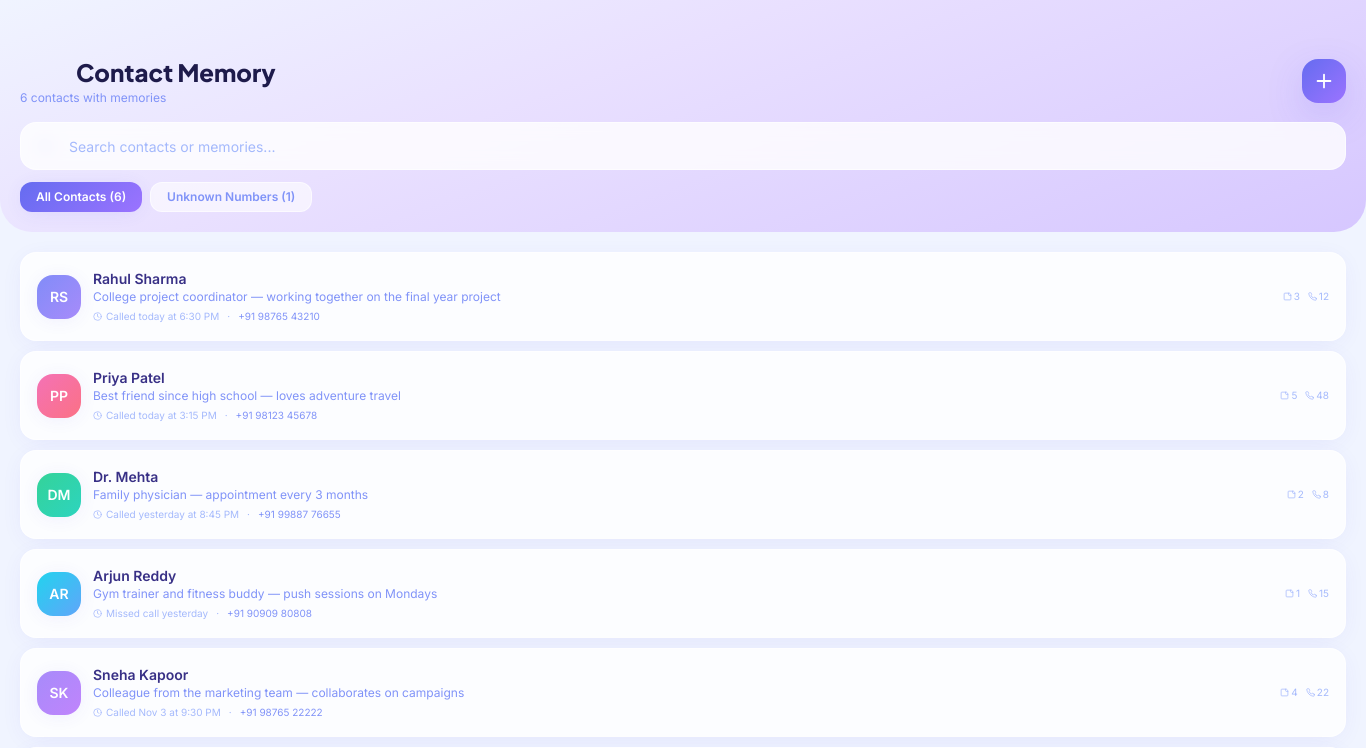
ContactsScreen › filters contacts by search query
In the field with placeholder "Search contacts or memories...": (683,146) [20,122,1346,170], type "Priya"
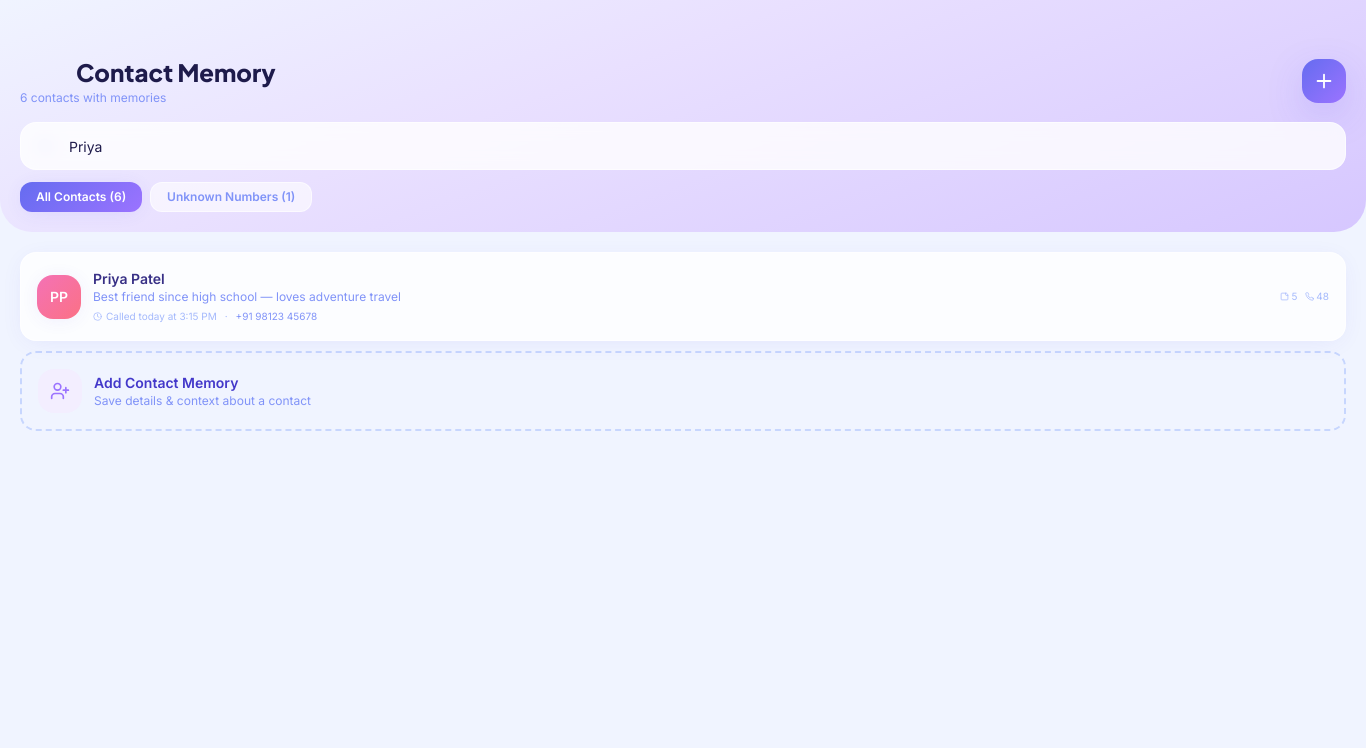
expect the text "Priya Patel" is shown: met, box [93,270,165,287]
expect the button "Dr. Mehta" is gone: met
